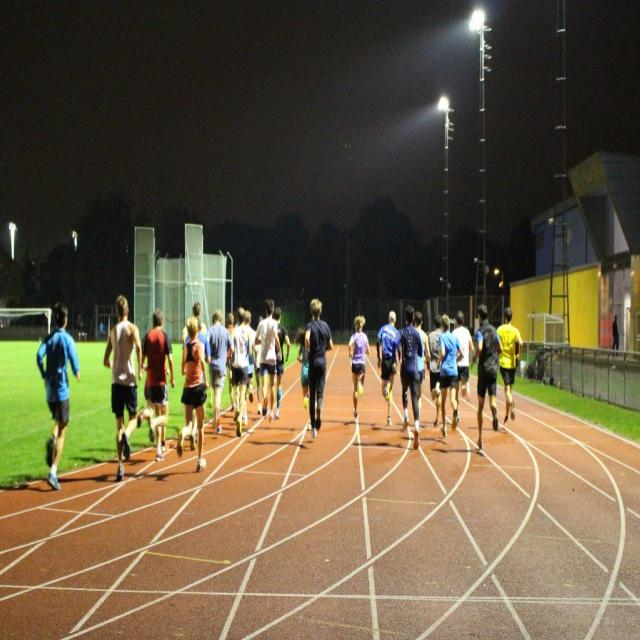body: (34, 298, 82, 492), (100, 292, 144, 484), (133, 306, 176, 446), (174, 314, 210, 474), (469, 303, 503, 452), (390, 304, 423, 449), (180, 312, 212, 452), (303, 296, 334, 438), (201, 306, 233, 438), (253, 298, 283, 424), (435, 312, 465, 438), (494, 306, 524, 428), (375, 308, 403, 426), (229, 306, 253, 438), (148, 331, 170, 464), (451, 308, 475, 424), (346, 314, 371, 418), (413, 310, 432, 424), (272, 306, 290, 420), (426, 313, 444, 427), (240, 310, 257, 428), (296, 324, 314, 432), (180, 300, 208, 346), (252, 314, 264, 416), (224, 310, 236, 412), (611, 314, 620, 356), (244, 384, 253, 406), (98, 320, 104, 346)
